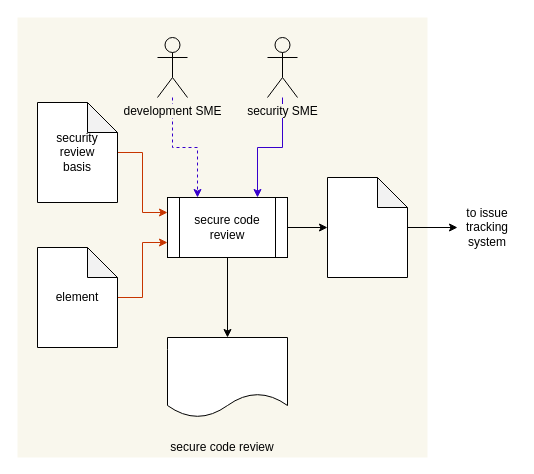
Some shapes in this 534 by 474 pixel diagram are drawn without their labels. The shapes that lost their labels are listed below. From the top down, each one's centre as x and y in pixels, then its label:
At (367,227): "identified issues".
At (227,377): "secure code review summary".
